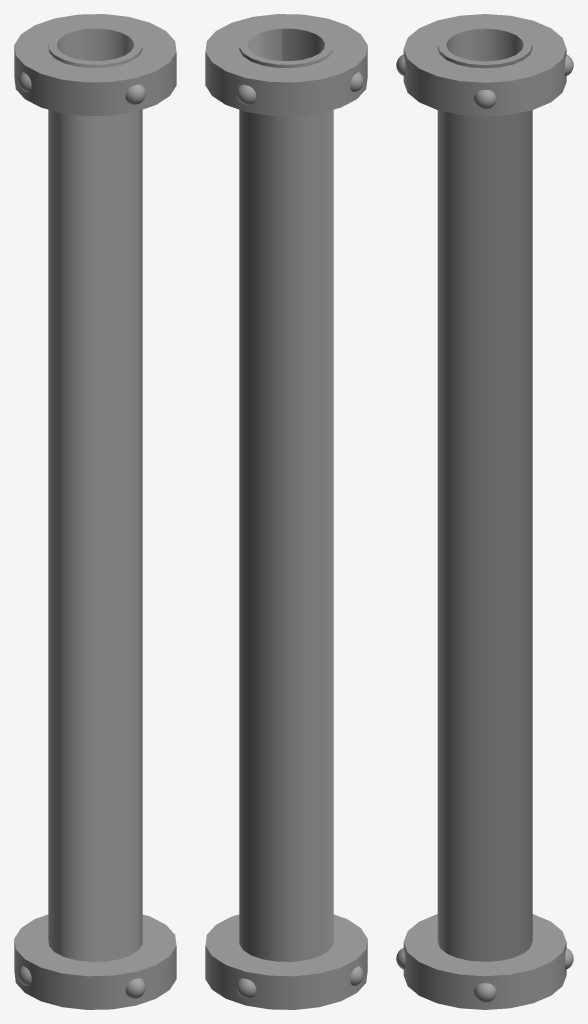
The model's file is Piller_Scrap.fbx.
3 views of the same model, side by side, from view 1: azimuth 30°, elevation 25°; view 2: azimuth 150°, elevation 25°; view 3: azimuth 270°, elevation 25° (orthographic).
Parts seen in each view (by area): view 1: pCylinder1; view 2: pCylinder1; view 3: pCylinder1.
Boxes of the visible parts, x1,y1,x2,y2 form: pCylinder1: (14, 14, 176, 1009); pCylinder1: (205, 14, 367, 1009); pCylinder1: (396, 14, 573, 1009).
Size of the model in its own units: 0.1613 by 0.9408 by 0.1627.
1 material, 1 textured.
